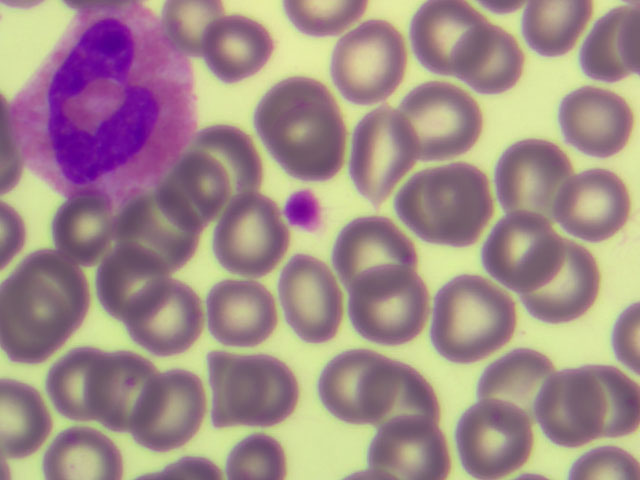Platelets: (286, 189, 319, 225)
RBC: (494, 138, 575, 220), (186, 121, 265, 203), (519, 241, 599, 321), (435, 274, 505, 362), (456, 397, 530, 480), (316, 352, 399, 425), (84, 356, 162, 433), (349, 267, 425, 345), (362, 363, 439, 439), (341, 218, 415, 297), (259, 79, 338, 153), (408, 1, 489, 72), (474, 349, 555, 418), (137, 368, 206, 448), (1, 280, 67, 362), (9, 260, 84, 332), (130, 284, 205, 356), (273, 106, 348, 178), (217, 194, 281, 278), (536, 373, 610, 445), (354, 108, 412, 199), (97, 253, 170, 325), (208, 348, 267, 436), (334, 27, 403, 102), (572, 366, 639, 442), (428, 162, 489, 245), (49, 352, 122, 421), (205, 275, 278, 344), (373, 413, 448, 480), (222, 359, 300, 423), (565, 87, 635, 158), (554, 172, 629, 238), (279, 256, 337, 341), (489, 214, 557, 286), (114, 202, 192, 264), (396, 170, 465, 240), (403, 87, 475, 153), (165, 161, 230, 234), (578, 10, 640, 85), (203, 16, 272, 80), (453, 28, 522, 91), (47, 424, 123, 480), (1, 378, 46, 459), (54, 199, 113, 259), (523, 1, 577, 58), (170, 1, 226, 51), (283, 1, 355, 35), (229, 437, 285, 480), (572, 448, 640, 480), (613, 303, 640, 374), (1, 202, 29, 267)
WBC: (16, 8, 187, 195)
